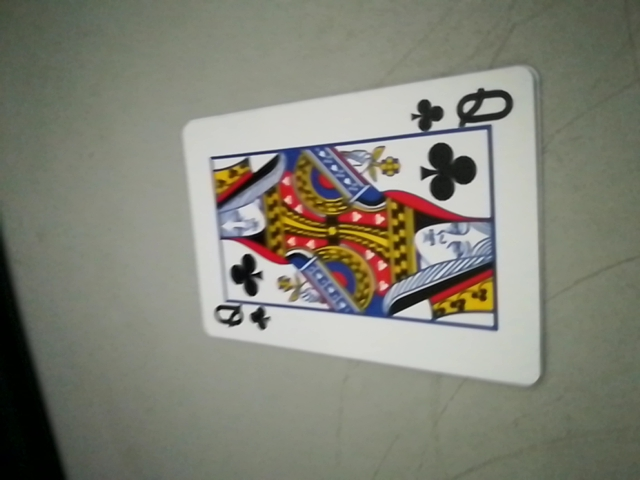mh q: (409, 85, 516, 134), (207, 295, 275, 337)
